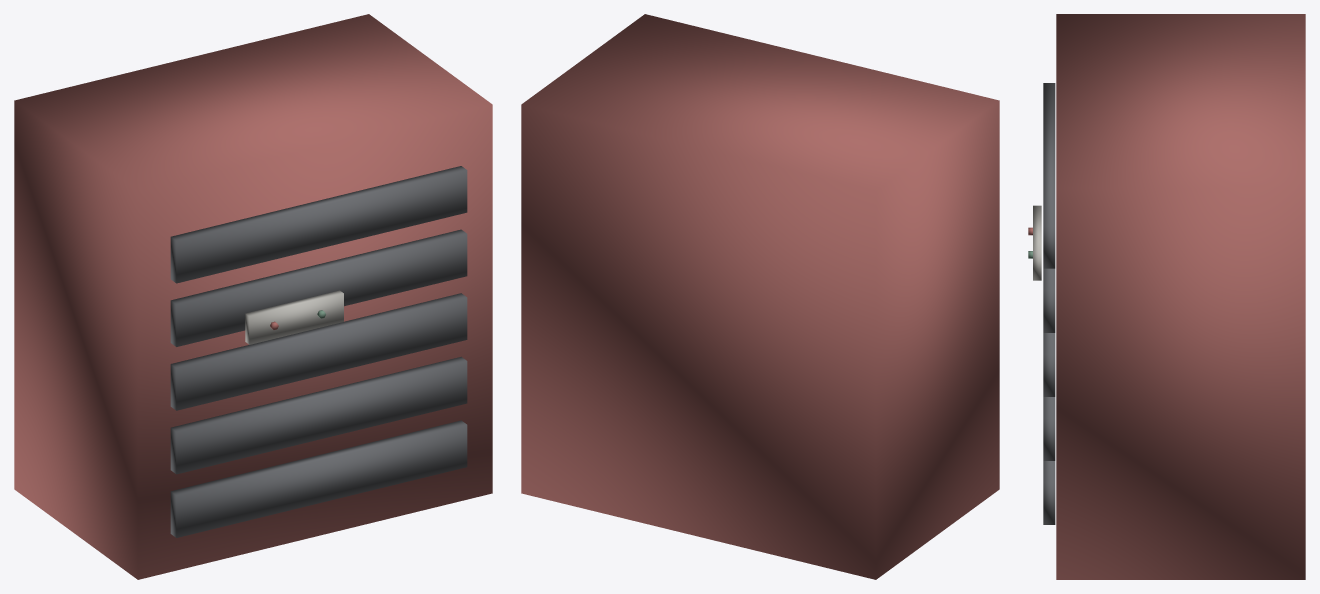
The model's file is tool_cabinet__deep.glb.
3 renders of one model, left to right at view 1: azimuth 30°, elevation 25°; view 2: azimuth 150°, elevation 25°; view 3: azimuth 270°, elevation 25°, orthographic.
Parts seen in each view (by area): view 1: world; view 2: world; view 3: world.
Part boxes in pixels (x1,y1,x2,y2): world: (14,14,492,579); world: (521,14,999,579); world: (1028,14,1305,579).
Size of the model in its own units: 1.05 by 1.1 by 0.7058.
